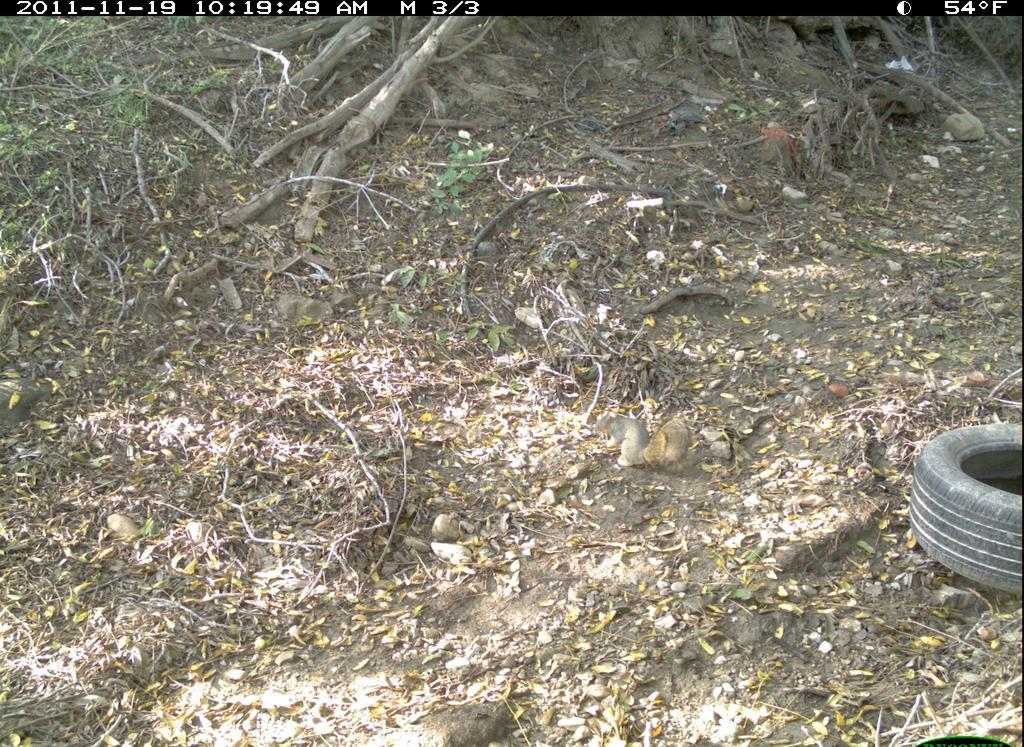squirrel: (582, 401, 699, 481)
